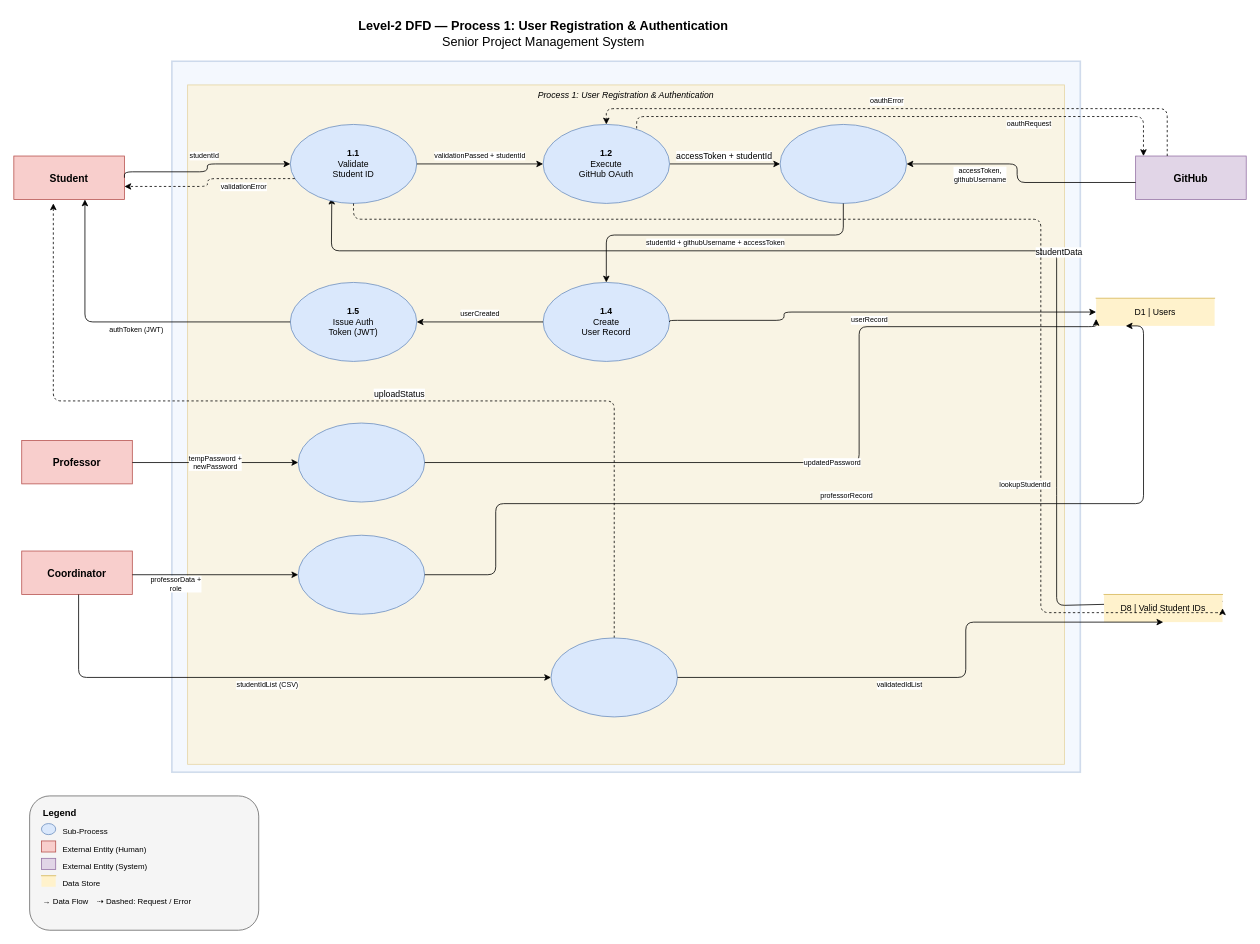
This 1260x944 diagram has some shape labels left out. The box of each missing label's shape, as (x1, y1, x2, y2) in pixels:
1.3 Fetch & Store GitHub Username: (779, 124, 907, 203)
1.6 Register Professor: (297, 534, 425, 614)
1.7 Upload Student ID List: (550, 637, 677, 717)
1.8 Initial Login & Password Change: (297, 422, 425, 502)
Senior Project Management System: (171, 60, 1081, 773)
